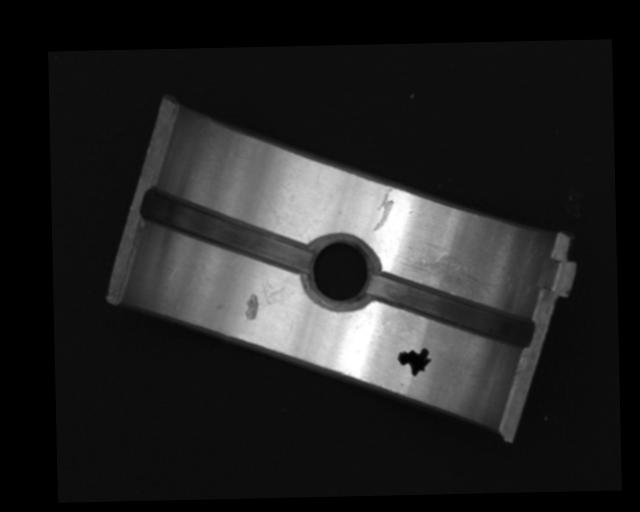blot: (396, 347, 431, 378)
bruise: (243, 292, 259, 321)
gap: (141, 186, 312, 276), (370, 273, 533, 351)
hole: (308, 238, 378, 309)
nick: (371, 186, 394, 232)
scratch: (400, 249, 496, 300)
